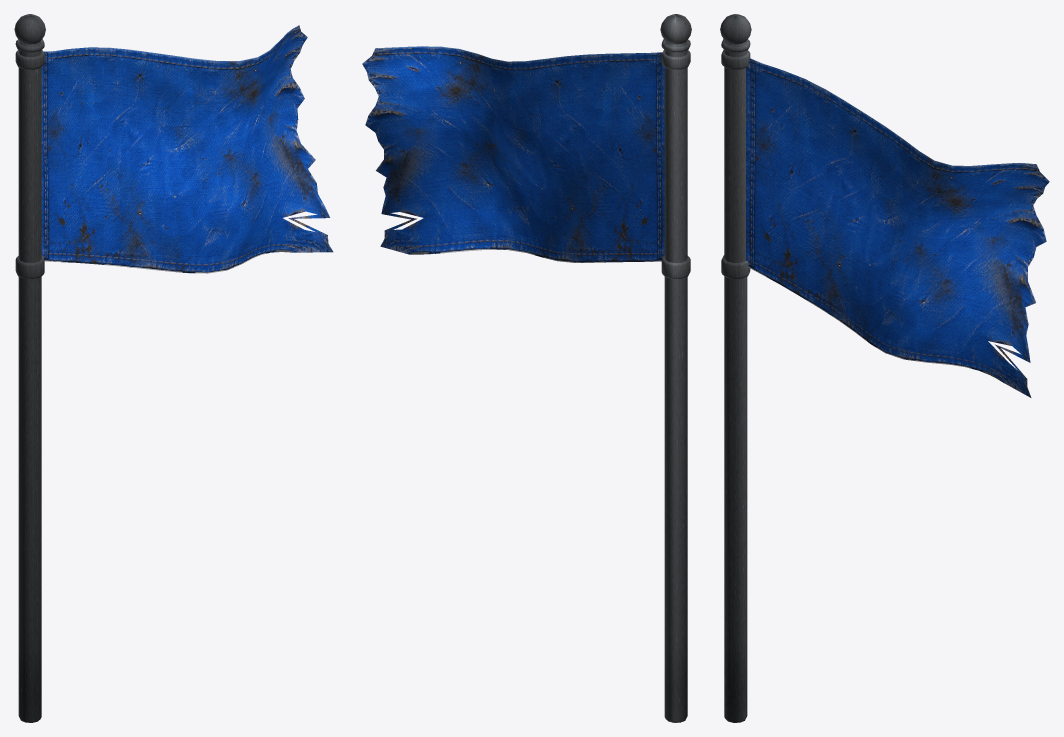
File: BlueFlag.animated.glb
The picture shows the model from 3 angles, left to right: view 1: azimuth 30°, elevation 25°; view 2: azimuth 150°, elevation 25°; view 3: azimuth 330°, elevation 25°; orthographic projection.
Visible parts, largest first — view 1: BlueFlag; view 2: BlueFlag; view 3: BlueFlag.
Part boxes in pixels (x1,y1,x2,y2): BlueFlag: [14, 14, 333, 722]; BlueFlag: [362, 14, 691, 722]; BlueFlag: [720, 14, 1049, 722].
Bounding box in the file's own units: 0.4698 × 1.01 × 0.0913.
Materials: 2 (2 with a texture image).
